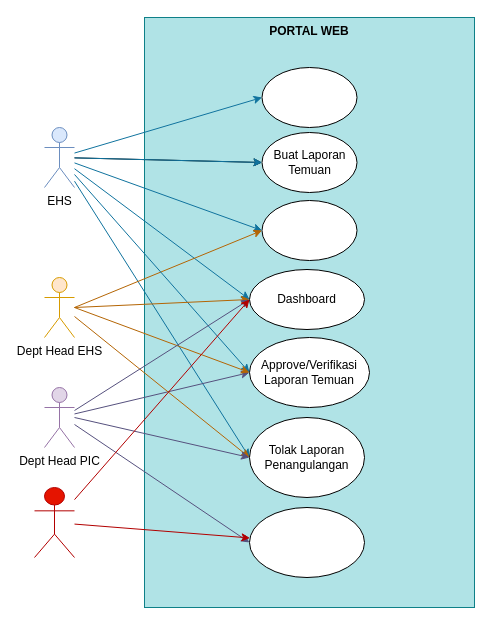
Some shapes in this 492 by 625 pixel diagram are drawn without their labels. The centre of each missing label's shape, as x and y in pixels:
Buat Laporan Patrol: (309,97)
Buat Laporan Penanggulangan: (306,542)
Edit Laporan Temuan: (309,230)
PIC: (54,522)
